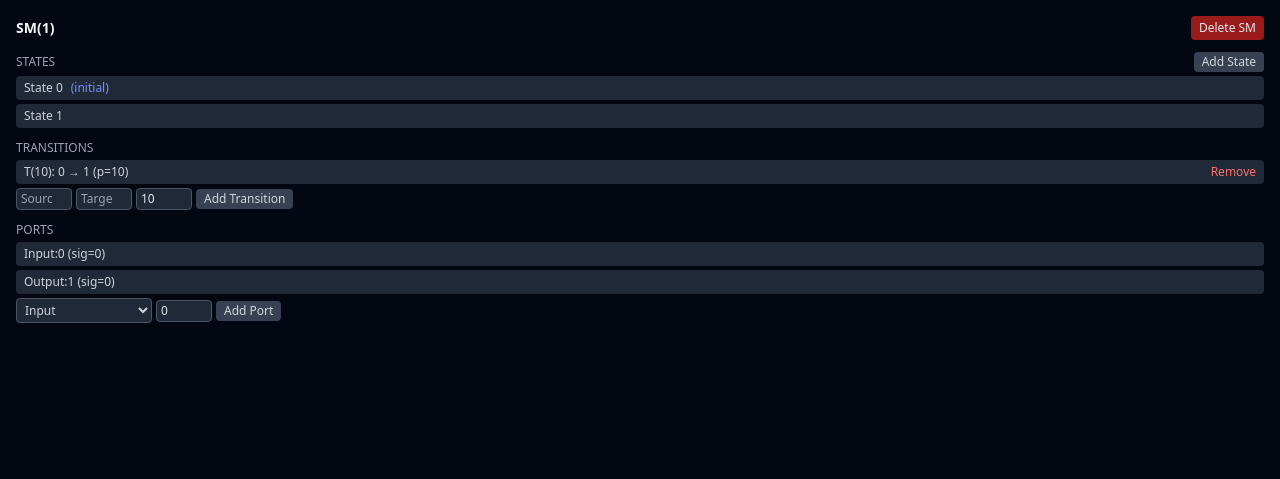
Test case: SmEditorPanel › clicking a transition shows detail editor
Click the text "T(10): 0 → 1 (p=10)".
click(76, 172)  # box [24,164,128,180]
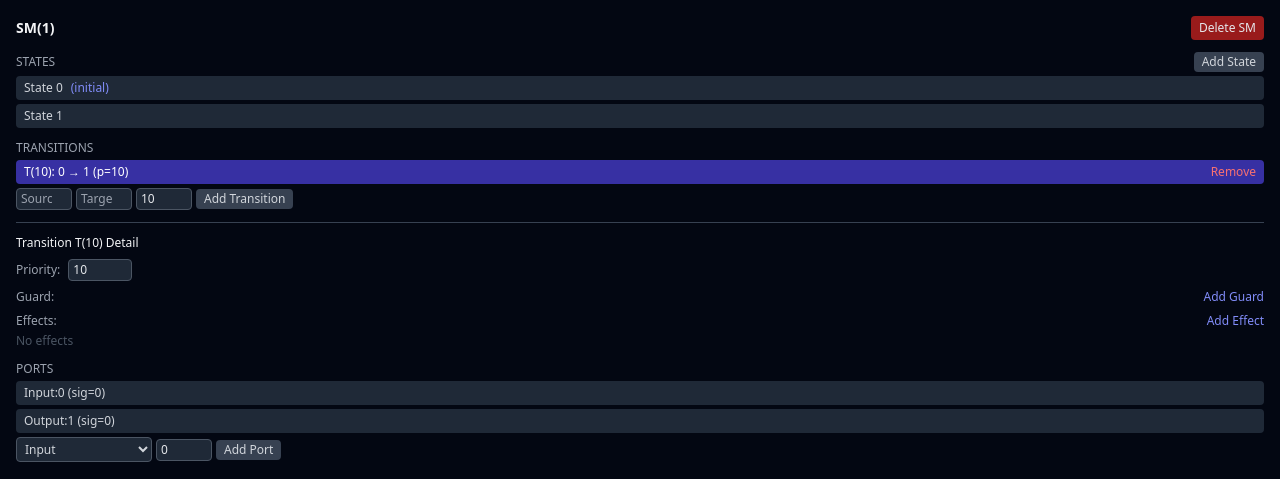
Result: the heading "Transition T(10) Detail" is shown at [16,234,138,251]
Result: the number field named "edit priority" holds "10" at [68,259,132,281]
